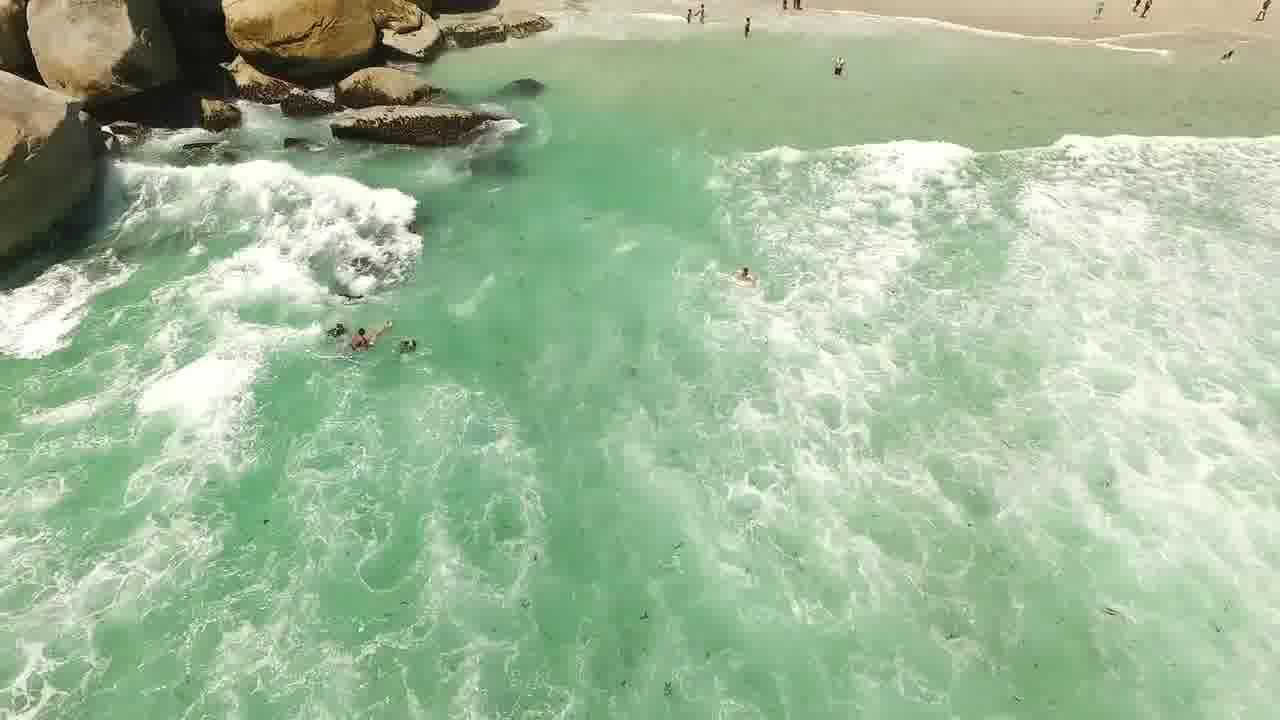swimmer: (722, 259, 769, 294), (339, 325, 376, 359), (389, 333, 428, 359)
